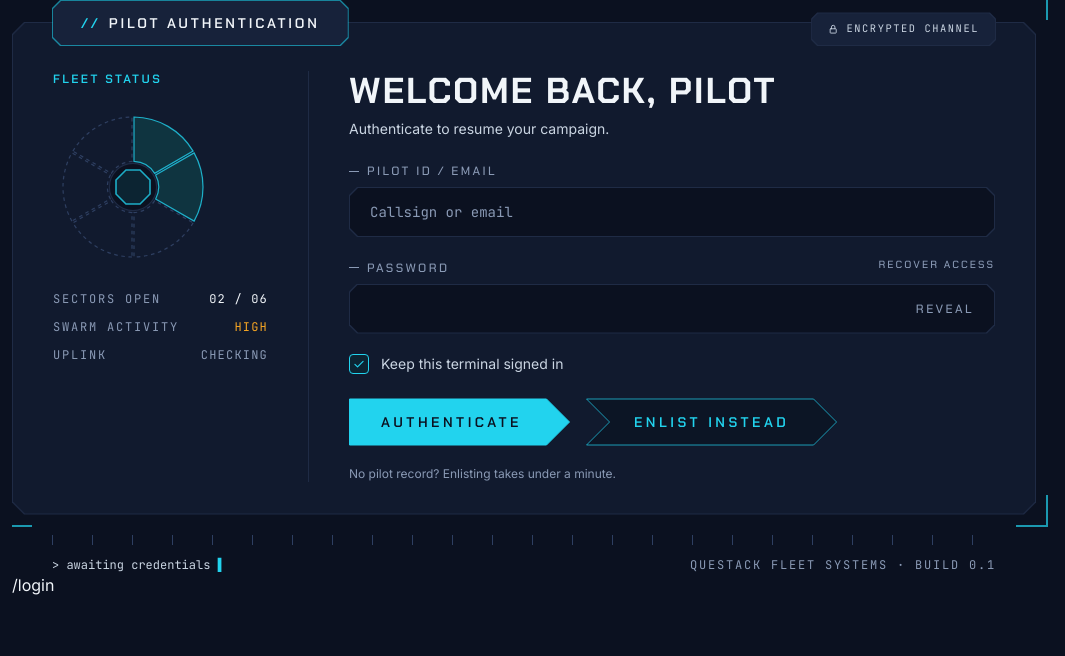
it: LoginPage › asks for both fields before sending anything
Click the button "Authenticate": (460, 422) [349,398,570,446]
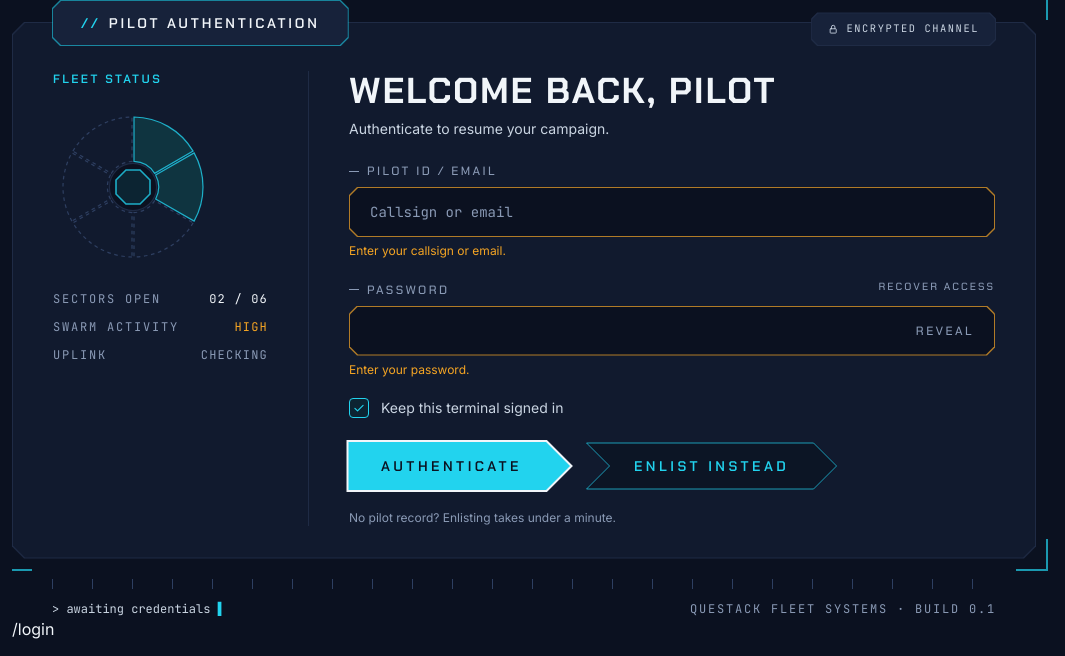
Check: the text "Enter your callsign or email." is shown, box [349,243,506,258]
Check: the text "Enter your password." is shown, box [349,362,470,376]
